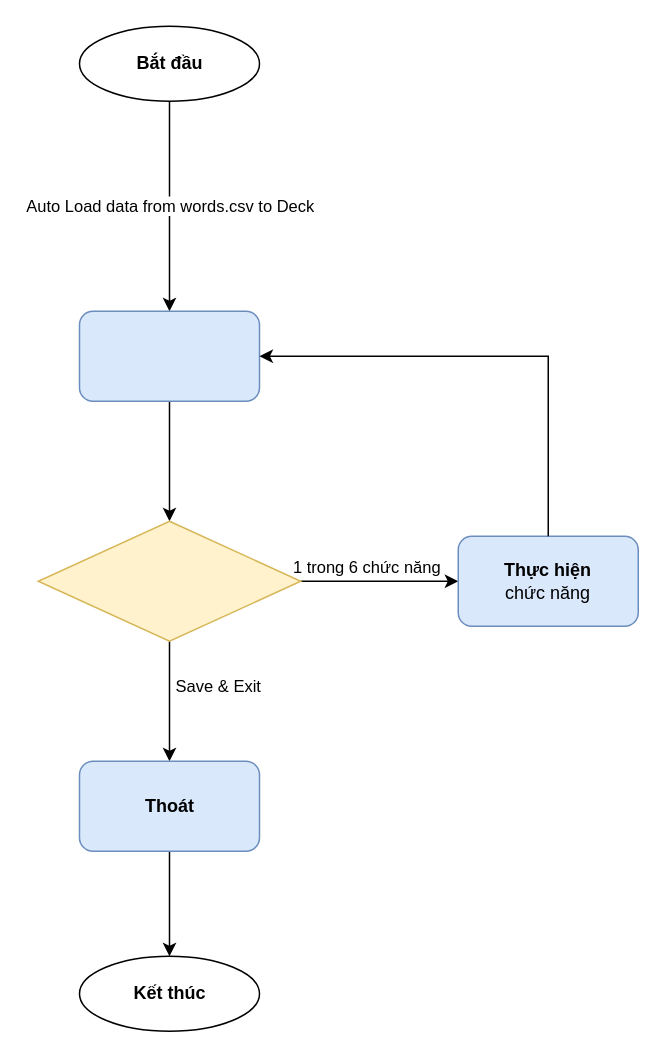
Image size: 665x1058. Some labels were removed from this diagram. Here are the shapes that lost their labels. From the top down, the centre of each, then its label:
the point at 169,355: Hiển thị menu 6 lựa chọn chính
the point at 169,580: Chọn chức năng?
